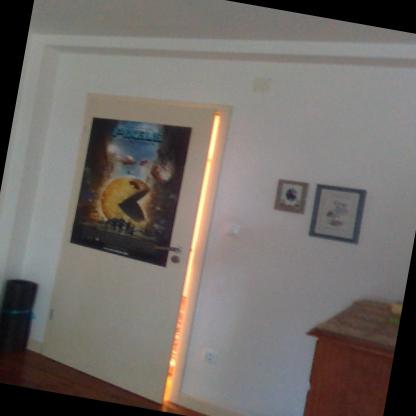closed: (18, 59, 252, 406)
